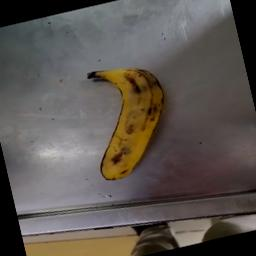Banana Overripe: (68, 48, 186, 186)
